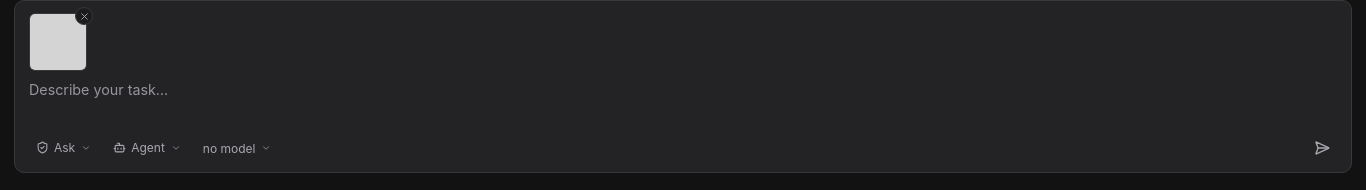
attaching a picture › a pasted one is sanitized, shown, and sent with the words
This screenshot has width=1366, height=190.
Type "what is this?" into the text box.
click(683, 103); type("what is this?")  # box x1=29 y1=79 x2=1337 y2=127
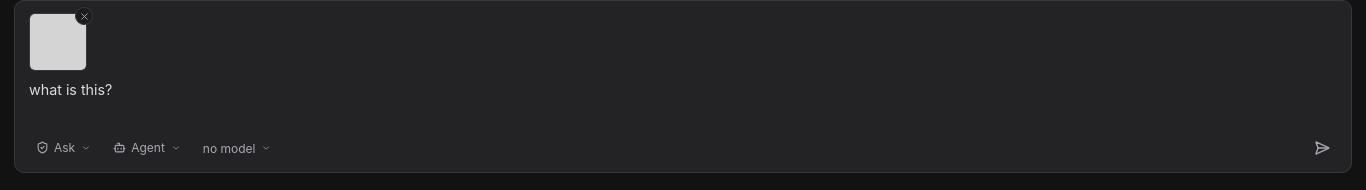
Press Enter in the text box, box x1=29 y1=79 x2=1337 y2=127
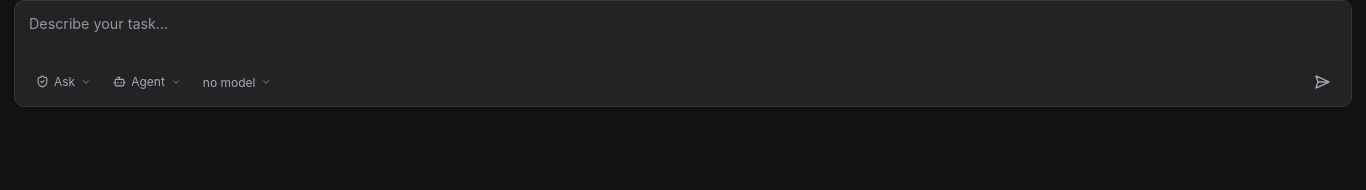
Expected: no pictures are shown
